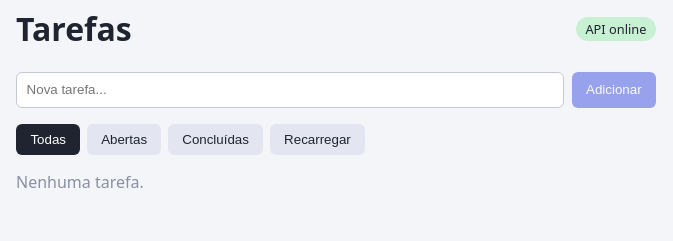
it: App › reloads the list
Check: the text "Nenhuma tarefa." is shown, box [16,171,144,193]
Click the button "Recarregar".
click(317, 140)  # box [270,124,365,155]
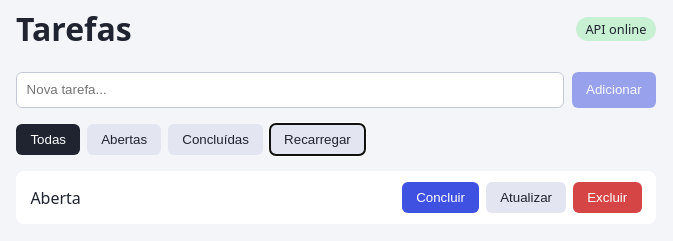
Check: the text "Aberta" is shown, box [30,187,81,209]
